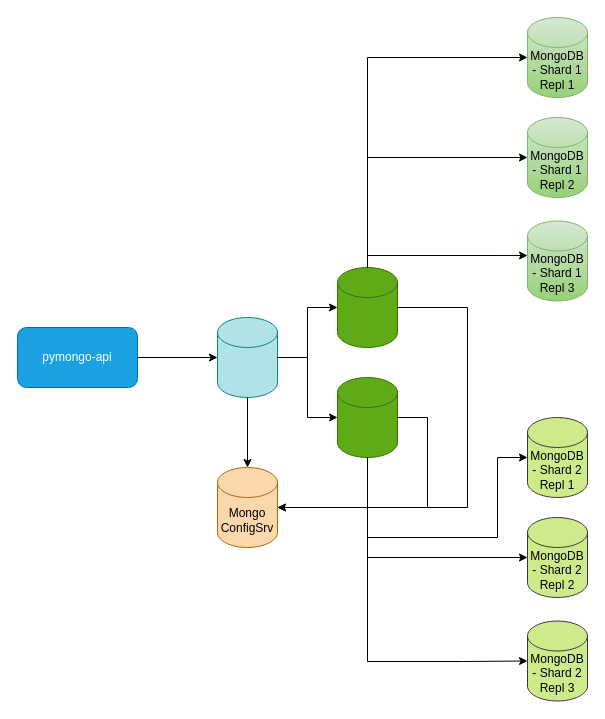
Some shapes in this 605 by 719 pixel diagram are drawn without their labels. Here are the shapes that lost their labels. From the top down, the centre of each, then its label:
the point at 367,307: MongoDB - Shard 1
the point at 247,357: Mongos Router
the point at 367,417: MongoDB - Shard 2
